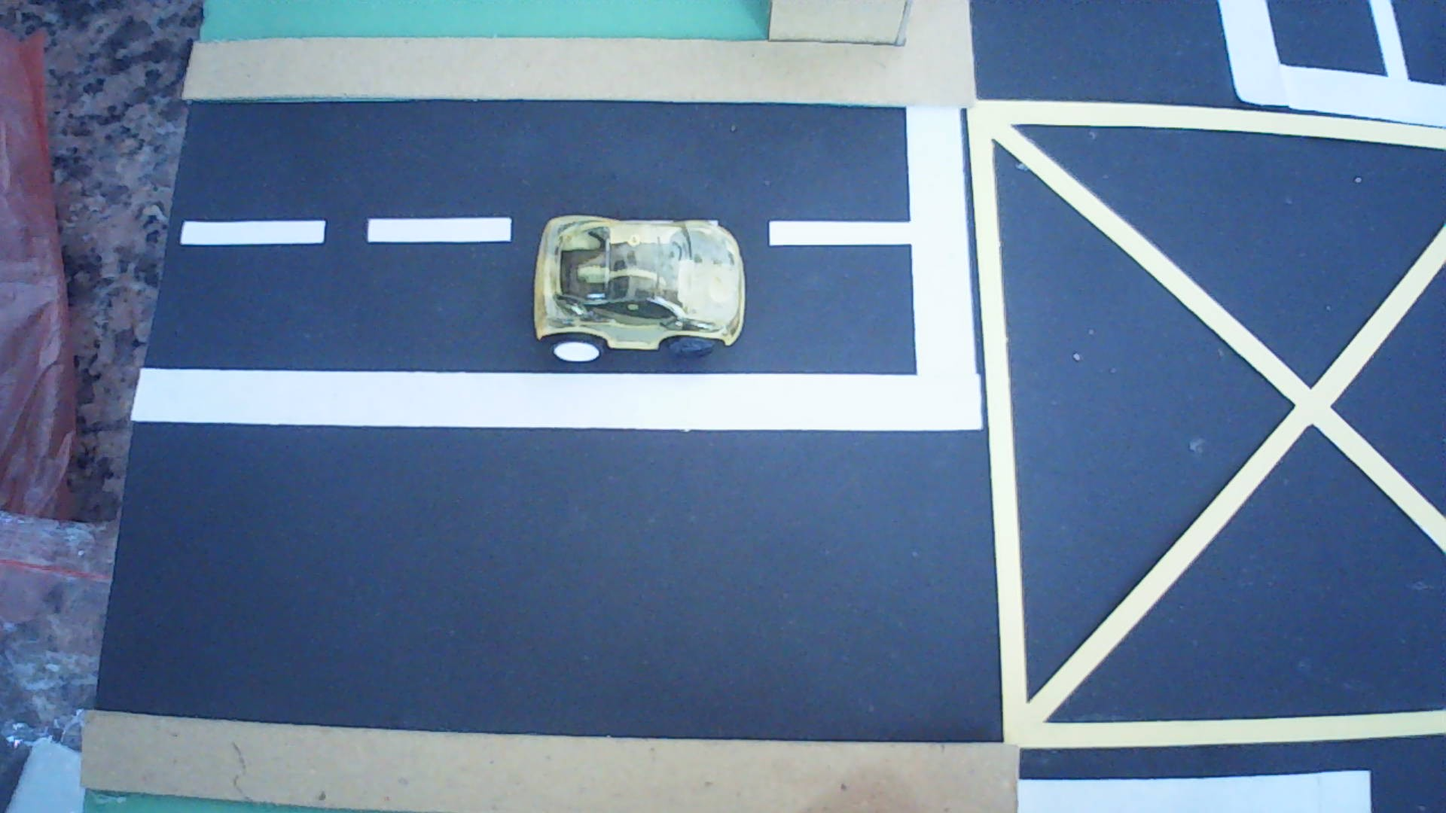Mobil kuning: (533, 215, 746, 361)
